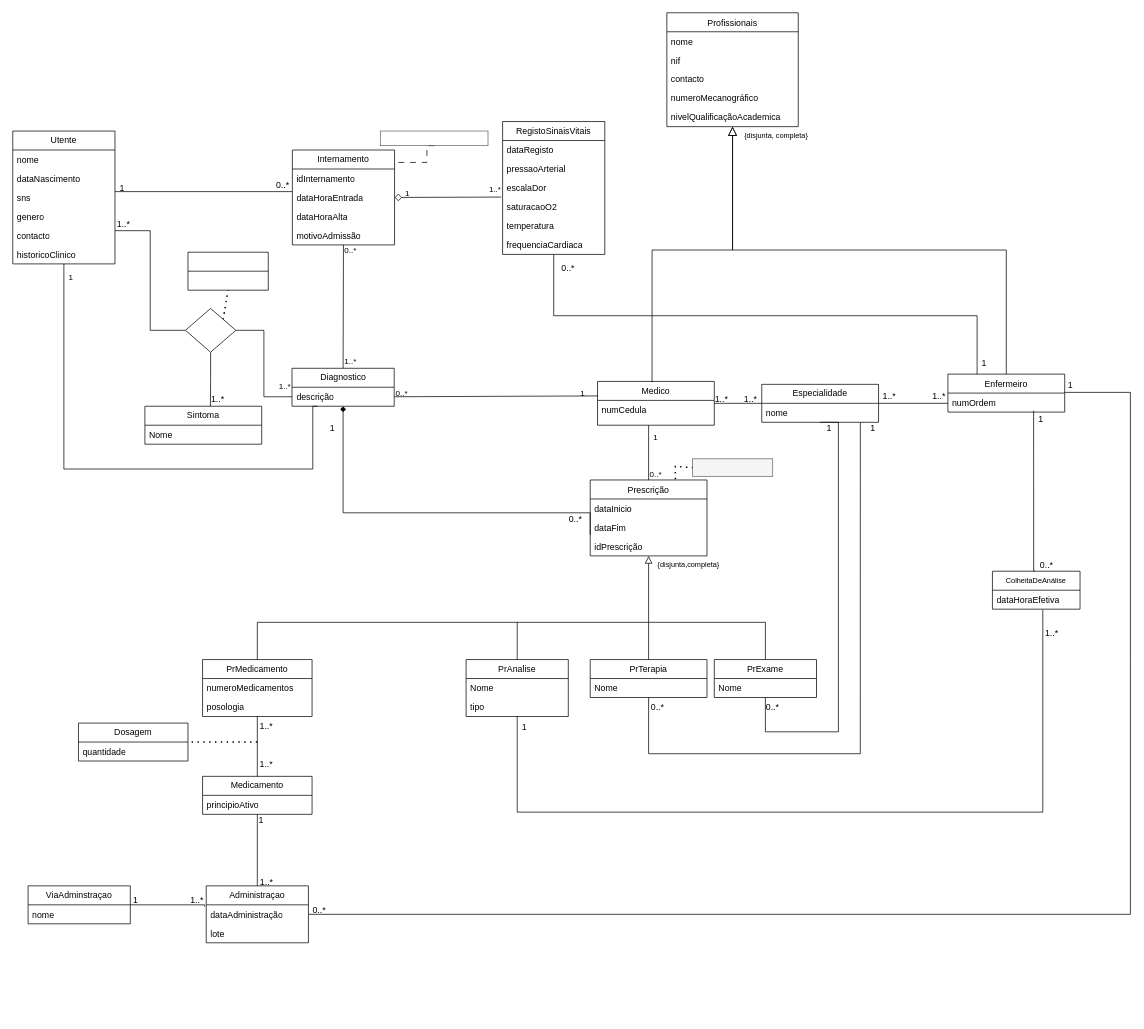
Some shapes in this 1144 by 1029 pixel diagram are drawn without their labels. Here are the shapes that lost their labels. From the top down, the centre of each, then its label:
[434,138]: {dataHoraAlta >= dataHoraEntrada}
[227,270]: dataDiagnostico
[732,467]: {dataFim >= dataInicio}
